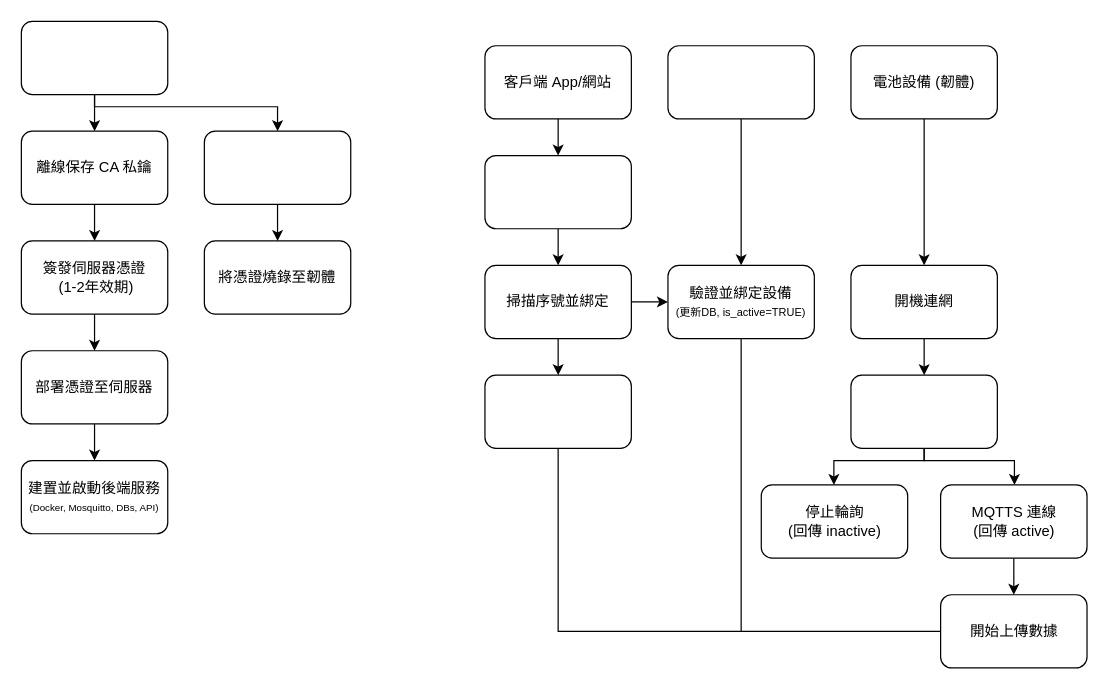
Some shapes in this 1109 by 689 pixel diagram are drawn without their labels. The box of each missing label's shape, as (x1, y1, x2, y2) in pixels:
交付 CA 憑證 給韌體團隊: (203, 130, 351, 204)
定期輪詢狀態: (850, 374, 997, 448)
後端 API 伺服器: (667, 45, 814, 119)
產生 CA 憑證 (20年效期): (20, 20, 168, 95)
綁定成功 可查詢數據: (484, 374, 631, 448)
註冊/登入: (484, 154, 631, 229)
